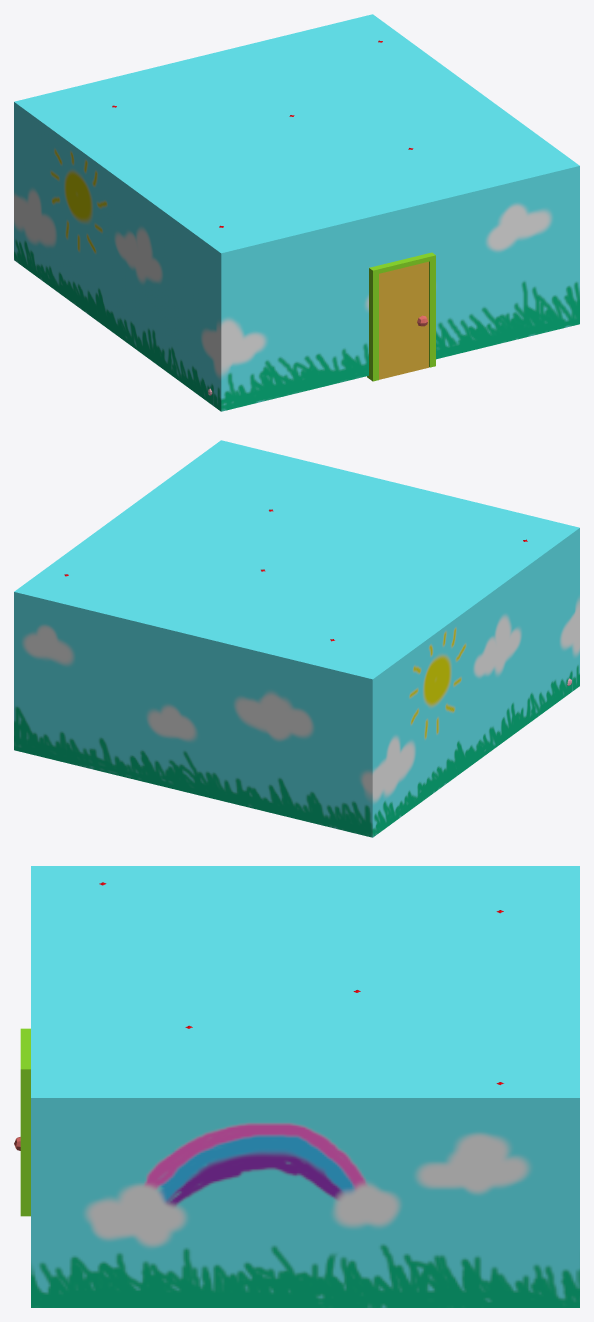
The model's file is HabitacionDecorada.fbx.
3 views of the same model, one above another, from view 1: azimuth 30°, elevation 25°; view 2: azimuth 150°, elevation 25°; view 3: azimuth 270°, elevation 25° (orthographic). The views are drawn at different scales.
Parts seen in each view (by area): view 1: piso, Puerta, MarcoPuerta; view 2: piso; view 3: piso, MarcoPuerta.
Boxes of the visible parts, x1=… form: piso: x1=14, y1=14, x2=579, y2=411; Puerta: x1=379, y1=261, x2=428, y2=379; MarcoPuerta: x1=367, y1=252, x2=435, y2=381; piso: x1=14, y1=440, x2=579, y2=837; piso: x1=31, y1=866, x2=579, y2=1307; MarcoPuerta: x1=20, y1=1028, x2=30, y2=1216.
Size of the model in its own units: 117 by 50.49 by 120.
